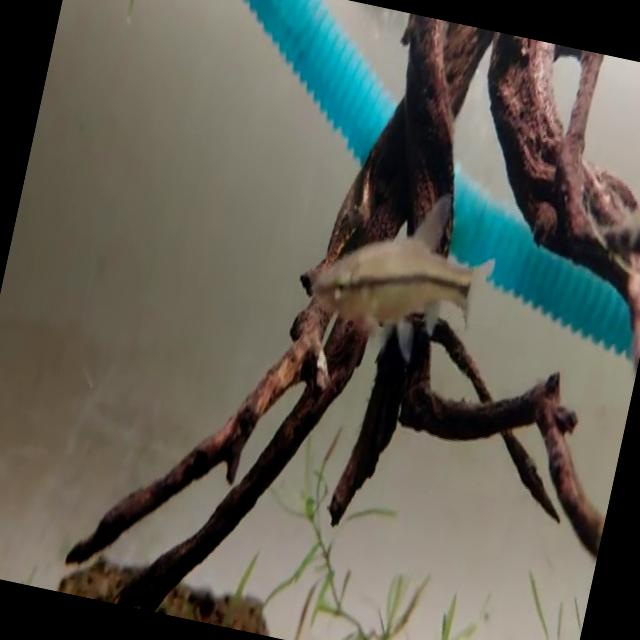Cakil Baligi: (297, 165, 506, 382)
